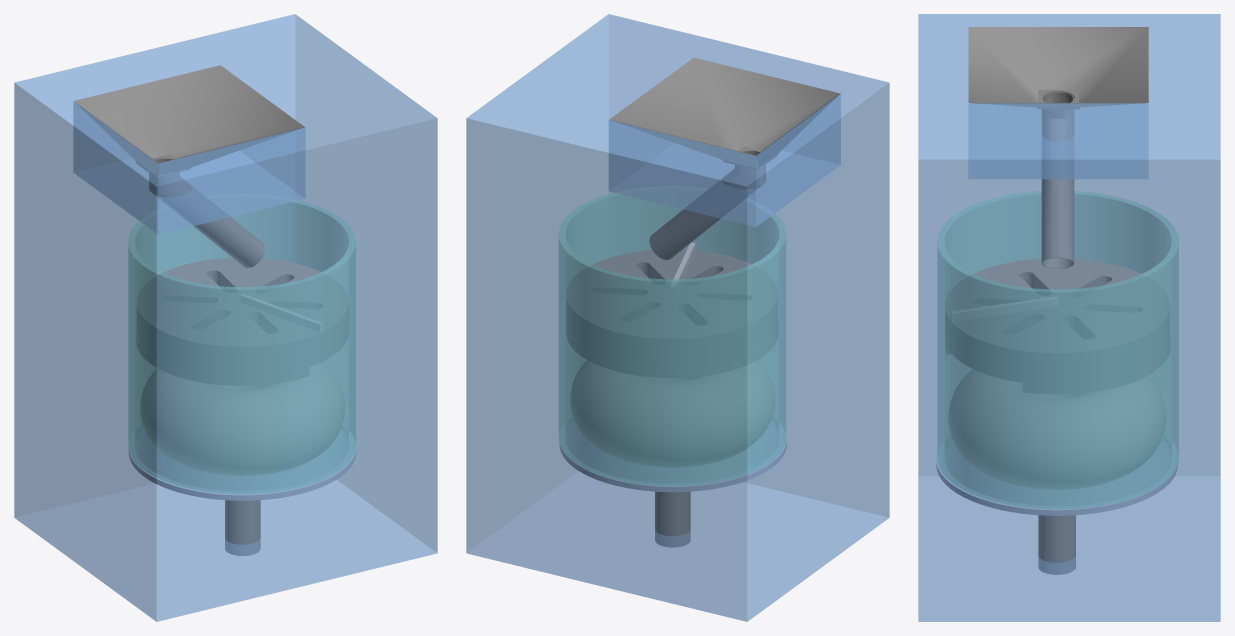
The model's file is dispenser.glb.
3 renders of one model, left to right at view 1: azimuth 30°, elevation 25°; view 2: azimuth 150°, elevation 25°; view 3: azimuth 270°, elevation 25°, orthographic. The views are drawn at different scales.
Parts seen in each view (by area): view 1: Box001, Tube003, Circle006, Torus002, Pyramid002, Tube004, Line020, Tube007, Circle008, Line006; view 2: Box001, Tube003, Circle006, Torus002, Pyramid002, Tube004, Line020, Tube007, Circle008; view 3: Box001, Tube003, Circle006, Torus002, Pyramid002, Tube004, Line020, Tube007, Circle008, Line006.
Boxes of the visible parts, x1,y1,x2,y2 form: Box001: (14, 14, 437, 621); Tube003: (128, 200, 355, 493); Circle006: (137, 257, 348, 376); Torus002: (141, 363, 344, 475); Pyramid002: (74, 65, 304, 177); Tube004: (128, 429, 356, 500); Line020: (149, 158, 265, 267); Tube007: (225, 500, 260, 555); Circle008: (137, 338, 308, 385); Line006: (241, 294, 322, 331); Box001: (466, 14, 889, 621); Tube003: (559, 193, 785, 485); Circle006: (567, 249, 777, 367); Torus002: (571, 360, 774, 466); Pyramid002: (609, 57, 840, 169); Tube004: (559, 421, 786, 492); Line020: (649, 150, 765, 259); Tube007: (655, 491, 690, 547); Circle008: (567, 331, 777, 377); Box001: (918, 14, 1220, 621); Tube003: (937, 191, 1178, 508); Circle006: (945, 258, 1169, 384); Torus002: (949, 370, 1165, 489); Pyramid002: (968, 27, 1148, 108); Tube004: (936, 439, 1177, 515); Line020: (1041, 92, 1074, 268); Tube007: (1038, 515, 1075, 574); Circle008: (946, 344, 1169, 393); Line006: (951, 297, 1058, 321).
Bounding box in the file's own units: 1.5 × 2.27 × 1.31.
